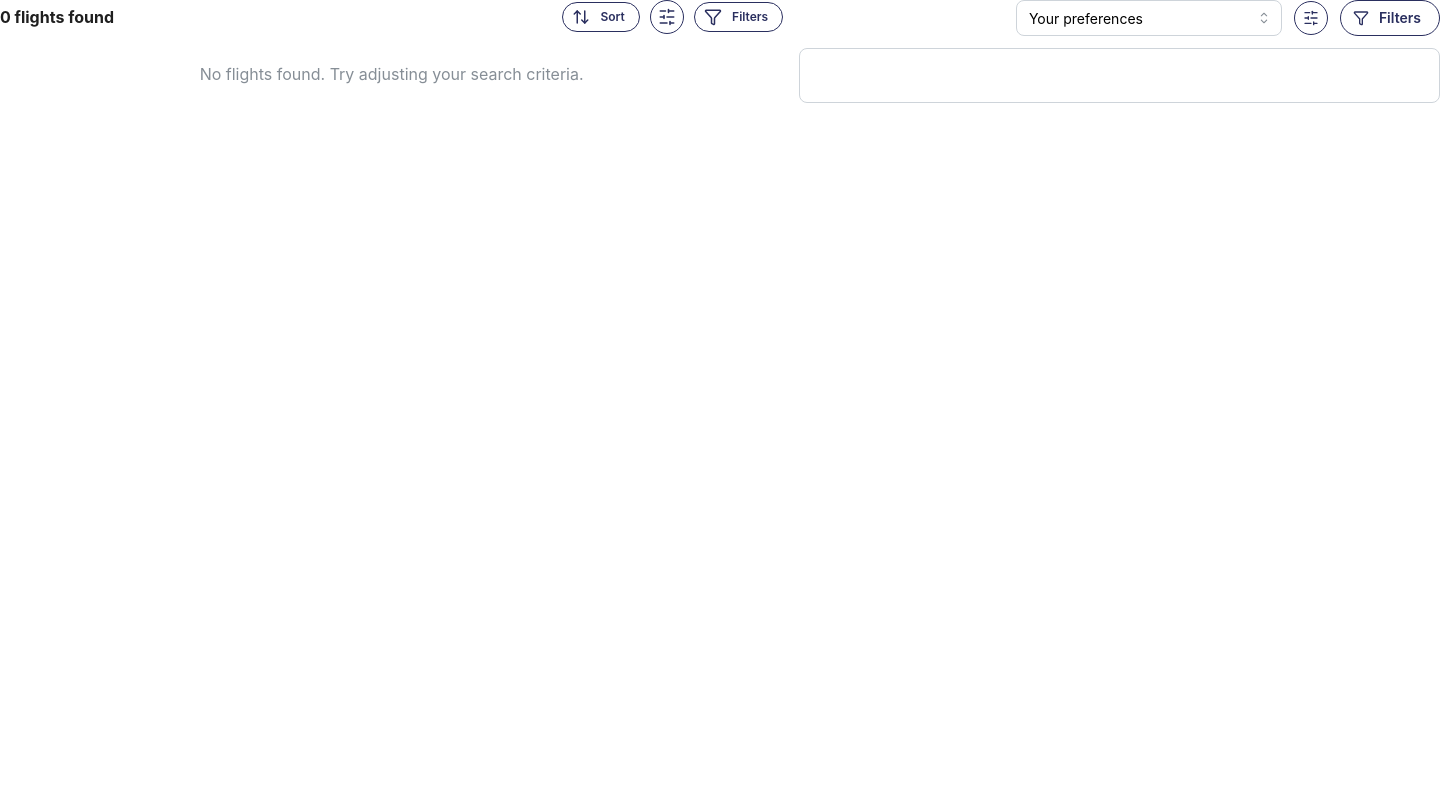
Test case: FlightSearchPage (mobile filters) › opens the filters dialog when Filters is tapped on a narrow viewport
Click the button "Filters" in the row of "0 flights found": (738,17) [694,2,783,32]
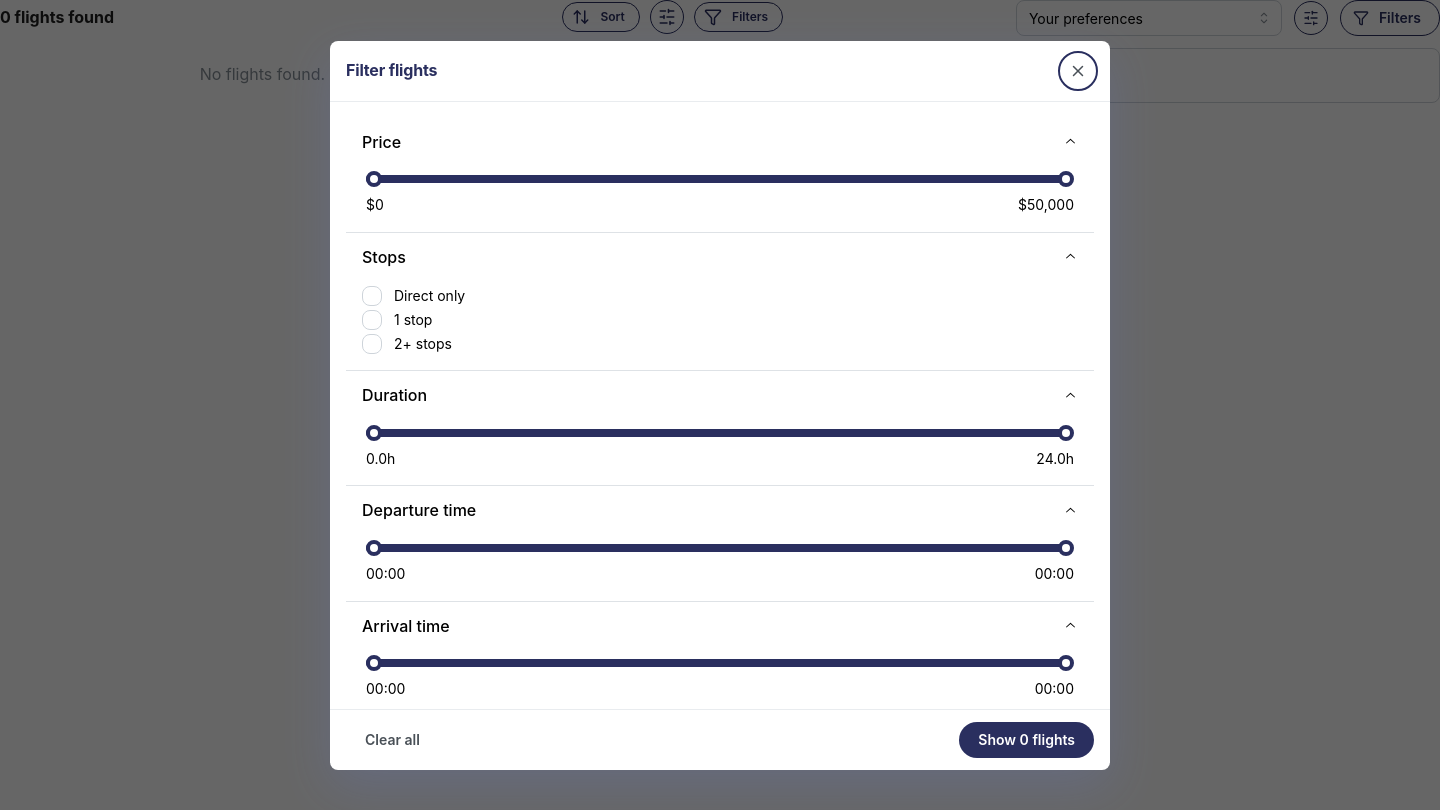
Check: the button named "close filters" is shown, box [1062,54,1094,86]
